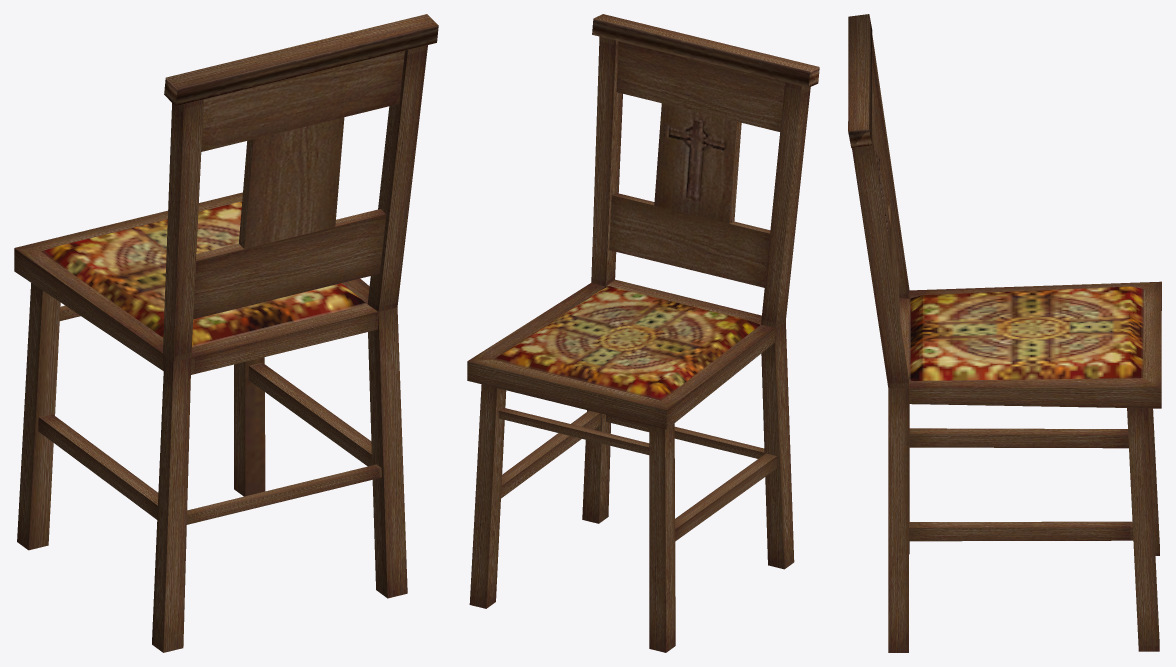
The model's file is church_chair.fbx.
3 views of the same model, side by side, from view 1: azimuth 30°, elevation 25°; view 2: azimuth 150°, elevation 25°; view 3: azimuth 270°, elevation 25° (orthographic). The views are drawn at different scales.
Visible parts, largest first — view 1: mesh_1, mesh_2; view 2: mesh_1, mesh_0, mesh_2; view 3: mesh_1.
Part boxes in pixels (box(x1,y1,x2,y2)): mesh_1: box(14, 14, 438, 652); mesh_2: box(187, 464, 381, 524); mesh_1: box(467, 14, 819, 652); mesh_0: box(498, 407, 649, 454); mesh_2: box(606, 415, 764, 458); mesh_1: box(848, 14, 1161, 652).
Size of the model in its own units: 46.01 by 98.49 by 53.05.
1 material, 1 textured.
